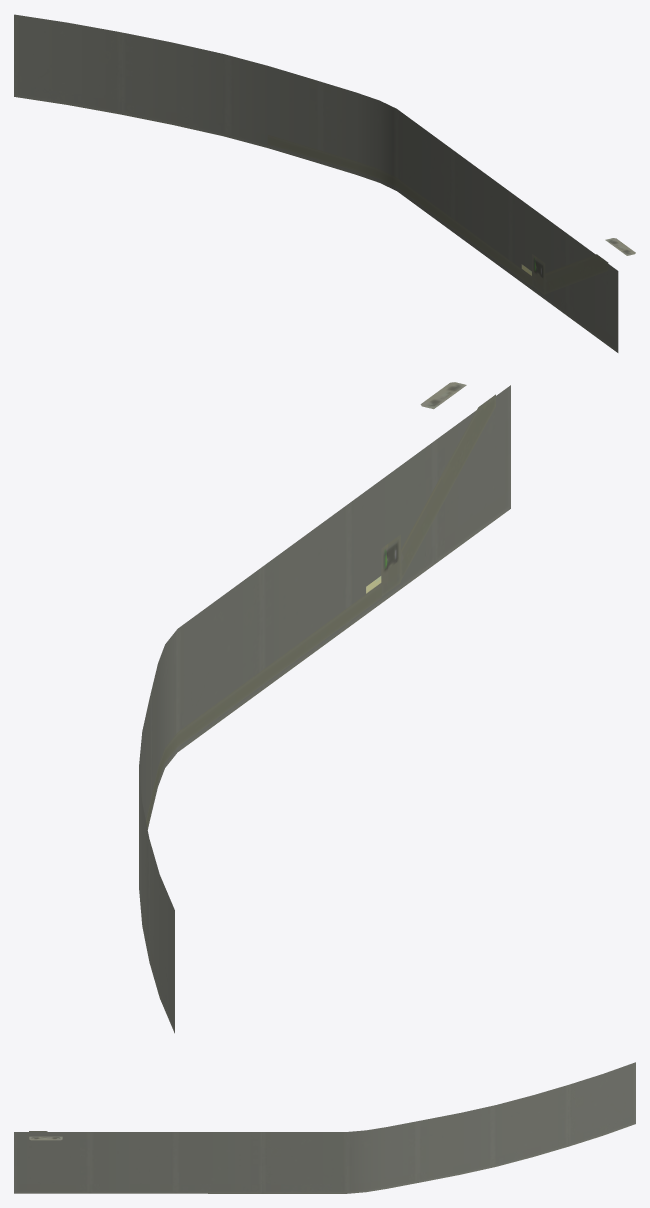
The model's file is pref_sm_city_riverwall03_snow_lv3.fbx.
The picture shows the model from 3 angles, top to bottom: view 1: azimuth 30°, elevation 25°; view 2: azimuth 150°, elevation 25°; view 3: azimuth 270°, elevation 25°; orthographic projection. The views are drawn at different scales.
Visible parts, largest first — view 1: pref_sm_city_riverwall03_snow_lv3; view 2: pref_sm_city_riverwall03_snow_lv3; view 3: pref_sm_city_riverwall03_snow_lv3.
Part boxes in pixels (<box>): pref_sm_city_riverwall03_snow_lv3: <box>14,14,635,352</box>; pref_sm_city_riverwall03_snow_lv3: <box>139,382,510,1033</box>; pref_sm_city_riverwall03_snow_lv3: <box>14,1062,635,1193</box>.
Bounding box in the file's own units: 6.76 × 2.51 × 22.09.
